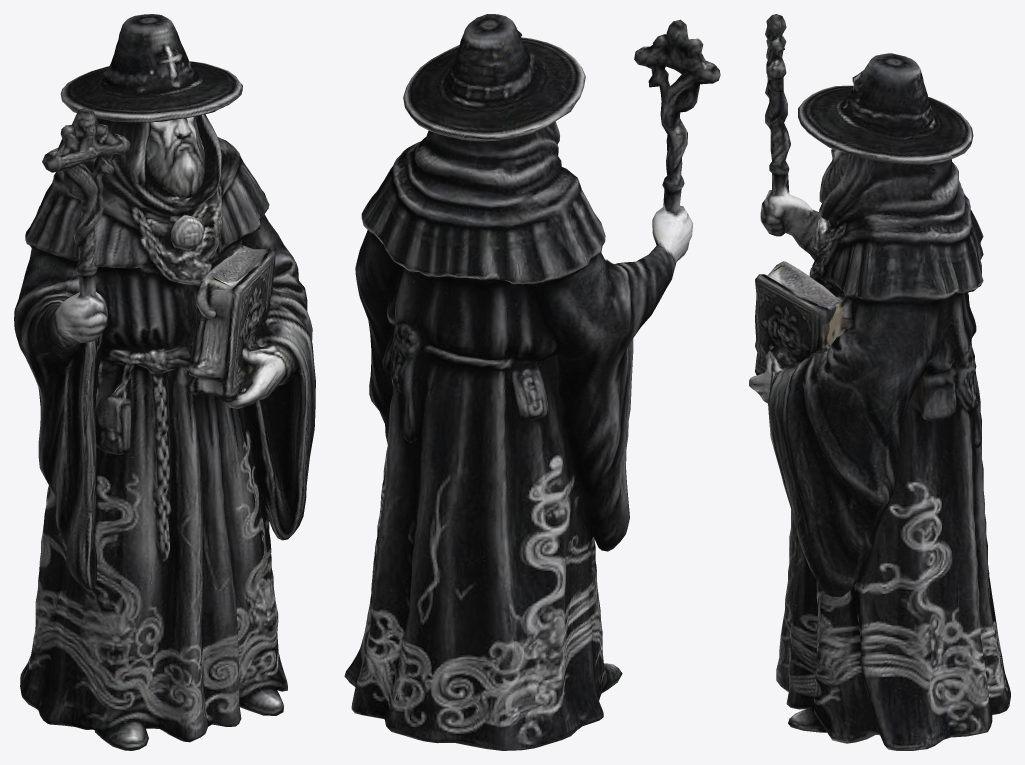
The model's file is Clergy_Exorcist.glb.
3 views of the same model, side by side, from view 1: azimuth 30°, elevation 25°; view 2: azimuth 150°, elevation 25°; view 3: azimuth 270°, elevation 25° (orthographic). The views are drawn at different scales.
Size of the model in its own units: 0.9002 by 1.91 by 0.7124.
1 material, 1 textured.
